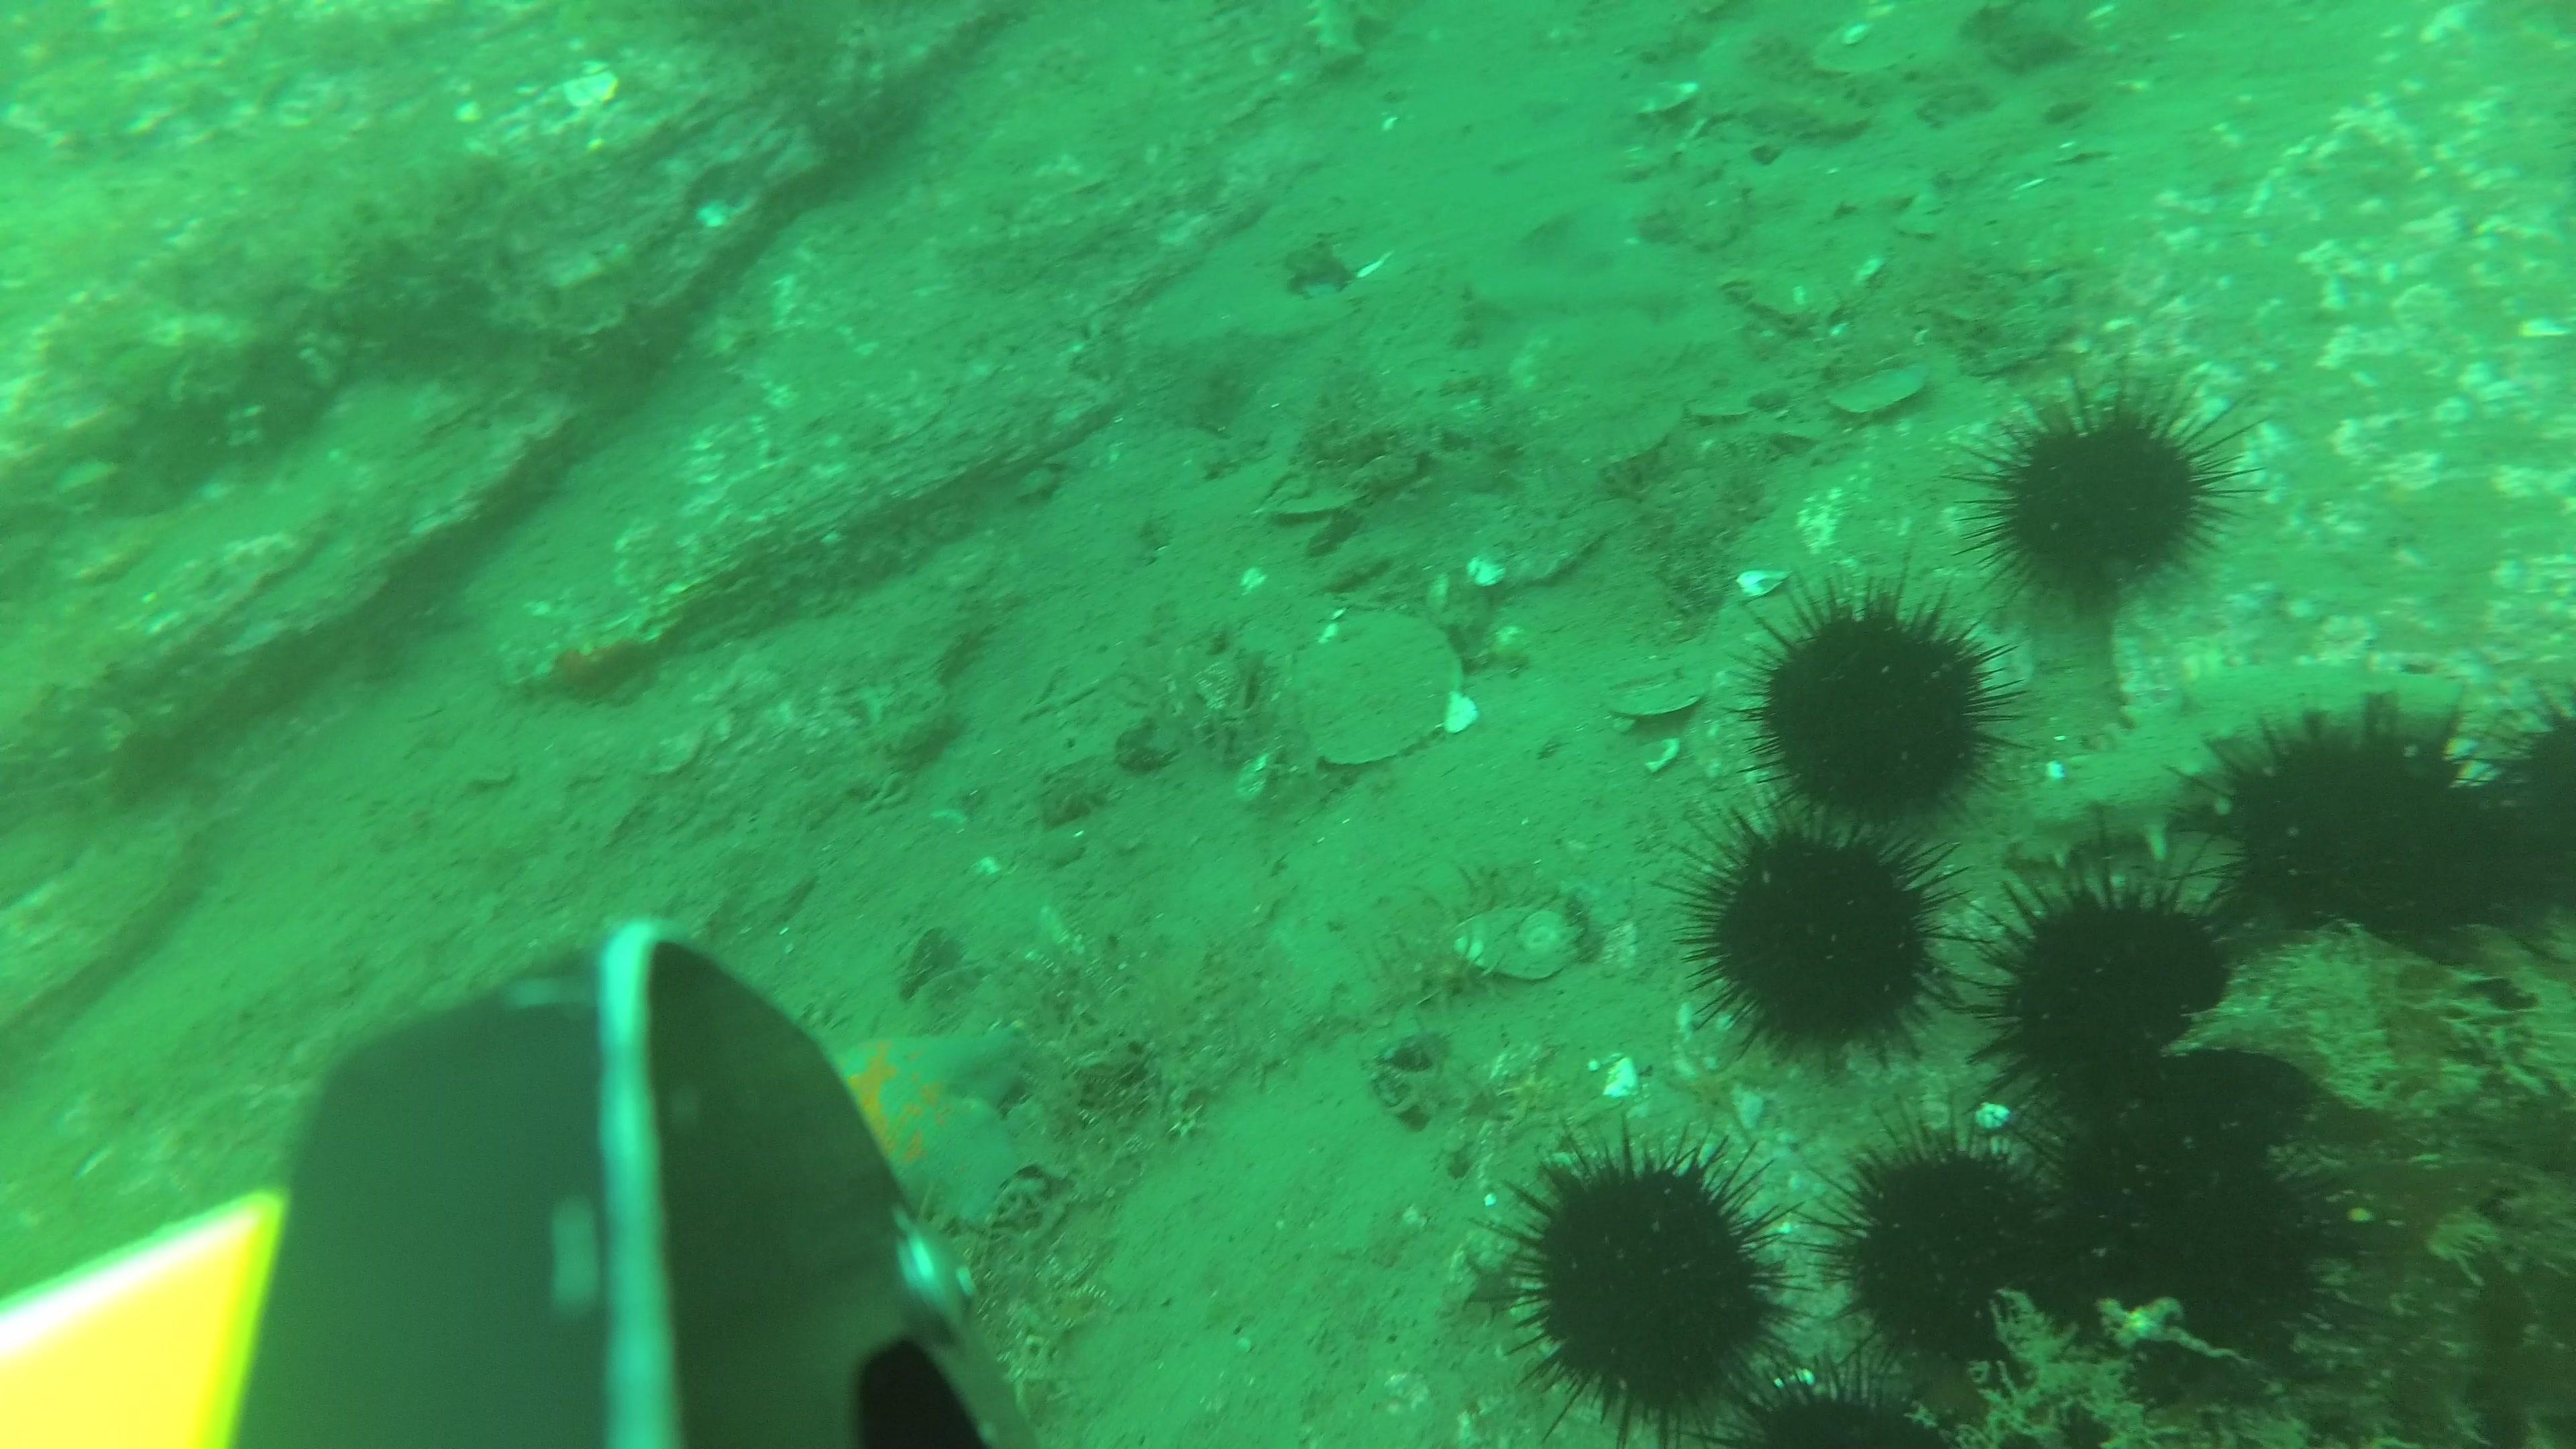echinus: (1470, 1127, 1794, 1449), (2022, 1085, 2341, 1394), (1670, 794, 1982, 1077), (1967, 824, 2238, 1136), (1955, 370, 2265, 617), (1744, 566, 2022, 840), (2201, 699, 2461, 975), (1815, 1102, 2063, 1380), (2456, 694, 2576, 943), (1693, 1341, 1951, 1449)
holothurian: (2006, 663, 2484, 872), (1302, 0, 1368, 64)
scallop: (1299, 616, 1467, 777), (1454, 906, 1587, 989), (1606, 674, 1707, 718)
starfish: (770, 1021, 1031, 1272)
